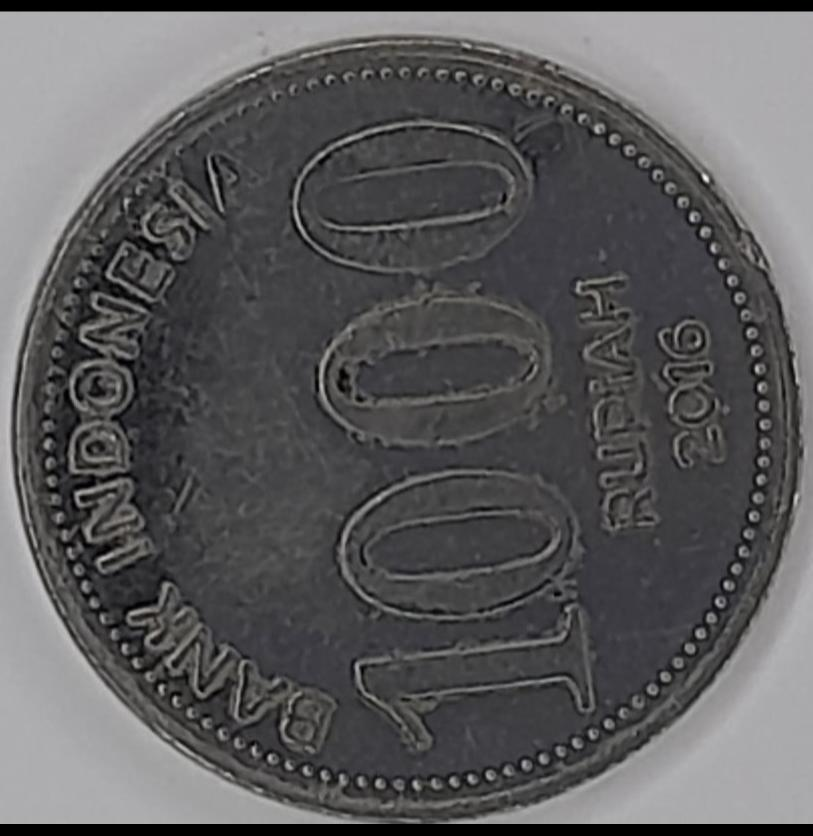coin_1000_e2016: (14, 17, 802, 836)
